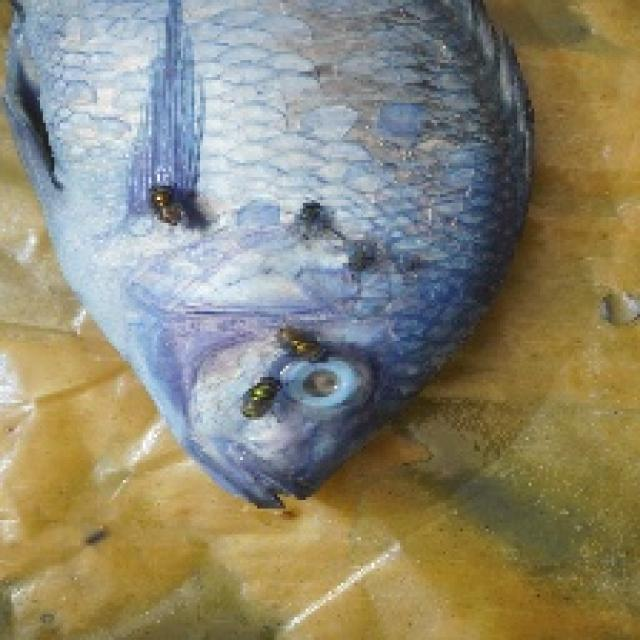Non-Fresh: (251, 322, 385, 447)
